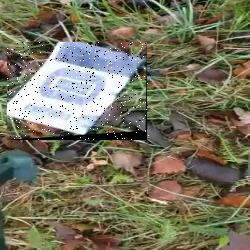restaffald: (8, 42, 150, 140)
